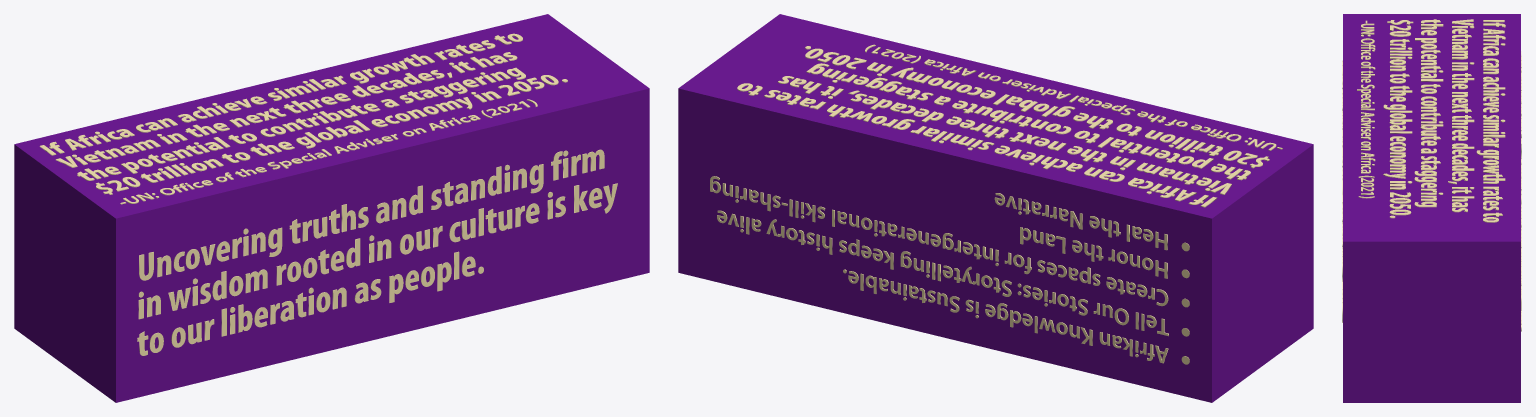
File: BSN_Education_Ani_CopyCube.gltf
3 views of the same model, side by side, from view 1: azimuth 30°, elevation 25°; view 2: azimuth 150°, elevation 25°; view 3: azimuth 270°, elevation 25° (orthographic). The views are drawn at different scales.
Parts seen in each view (by area): view 1: eduCopyCube; view 2: eduCopyCube; view 3: eduCopyCube.
Part boxes in pixels (x1,y1,x2,y2): eduCopyCube: [14, 14, 649, 402]; eduCopyCube: [678, 14, 1313, 402]; eduCopyCube: [1342, 14, 1521, 402].
Bounding box in the file's own units: 16.67 × 5.56 × 5.55.
